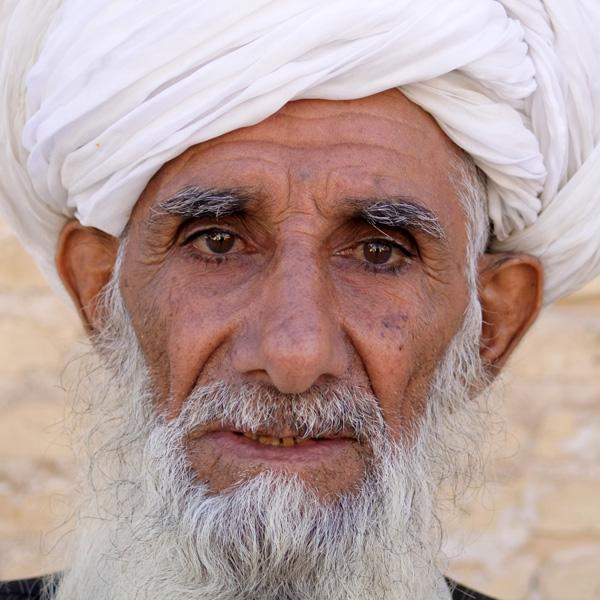Eyes: (321, 219, 430, 286), (170, 209, 259, 274)
